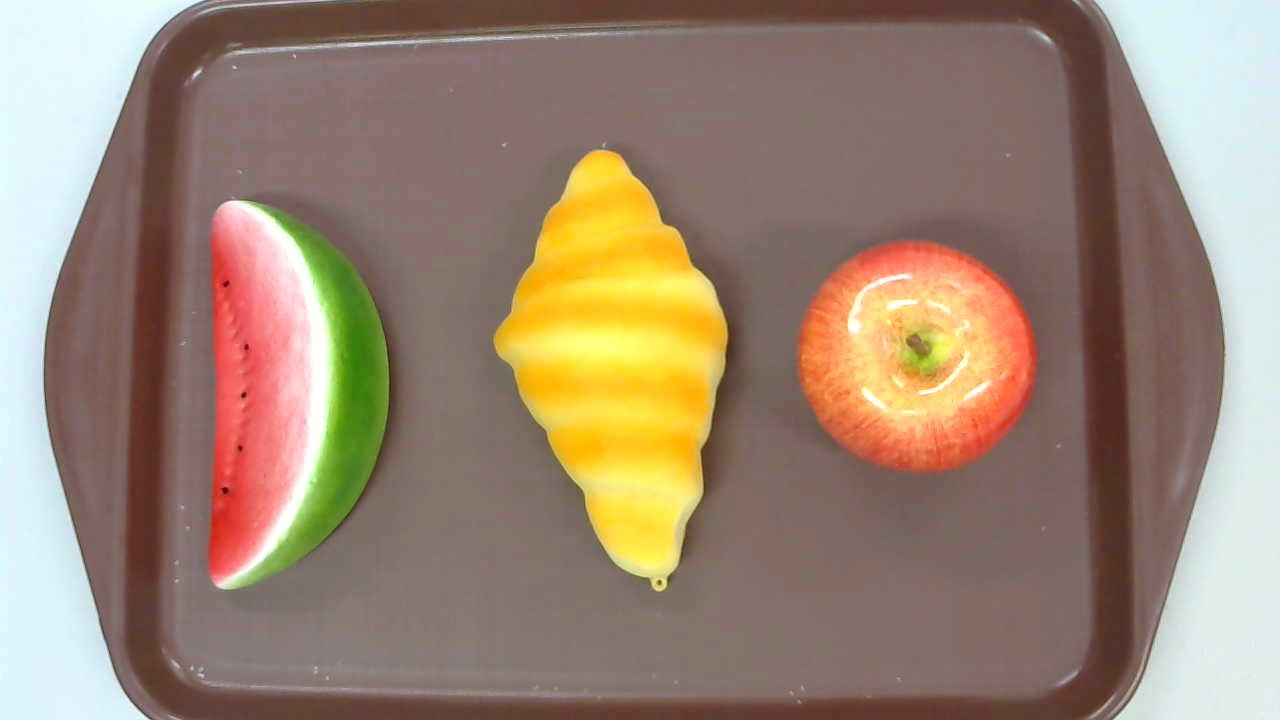croissant: (492, 148, 729, 592)
red apple: (797, 238, 1039, 475)
water melon: (208, 200, 389, 592)
